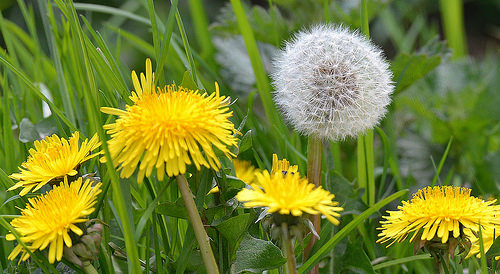dandelion white: (267, 19, 397, 144)
dandelion yellow: (100, 56, 240, 182), (377, 183, 500, 260), (6, 175, 101, 265), (231, 168, 347, 229), (5, 128, 108, 196)
